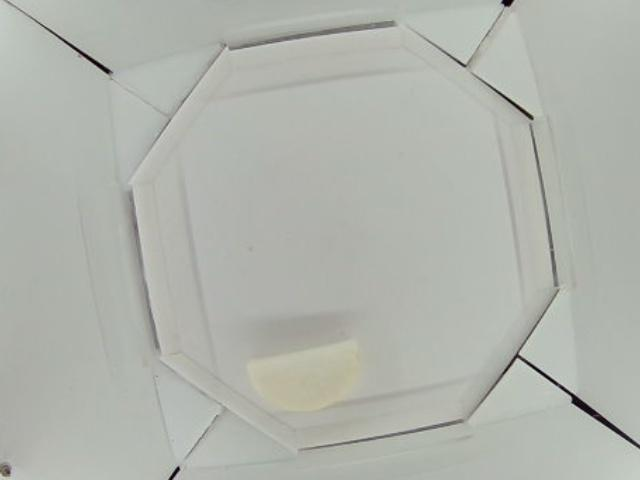Mooli: (246, 334, 358, 409)
